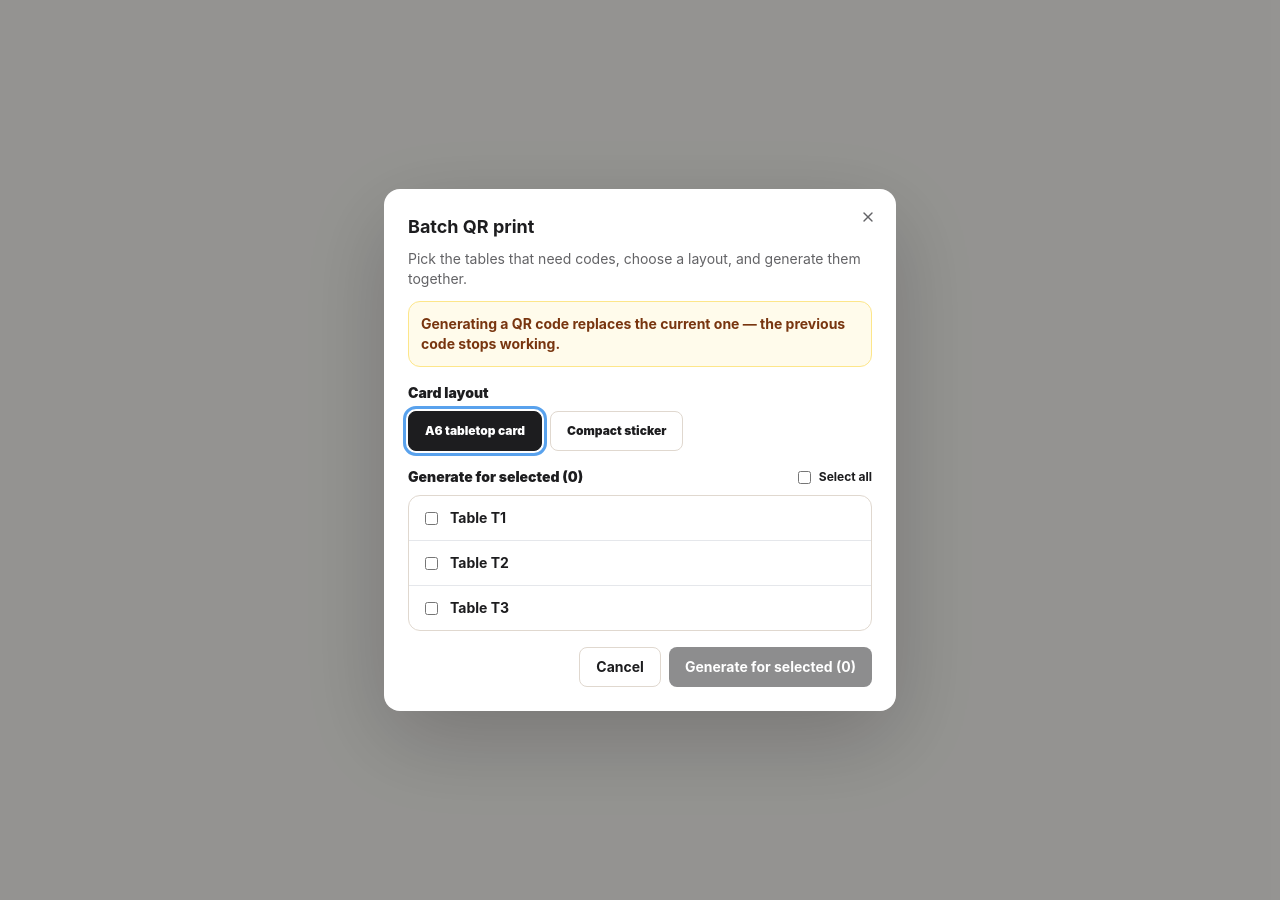
it: TableQrBatchDialog › toggles every table through Select all
Click the checkbox with test id "batch-select-all": (804, 477) [798, 470, 811, 484]
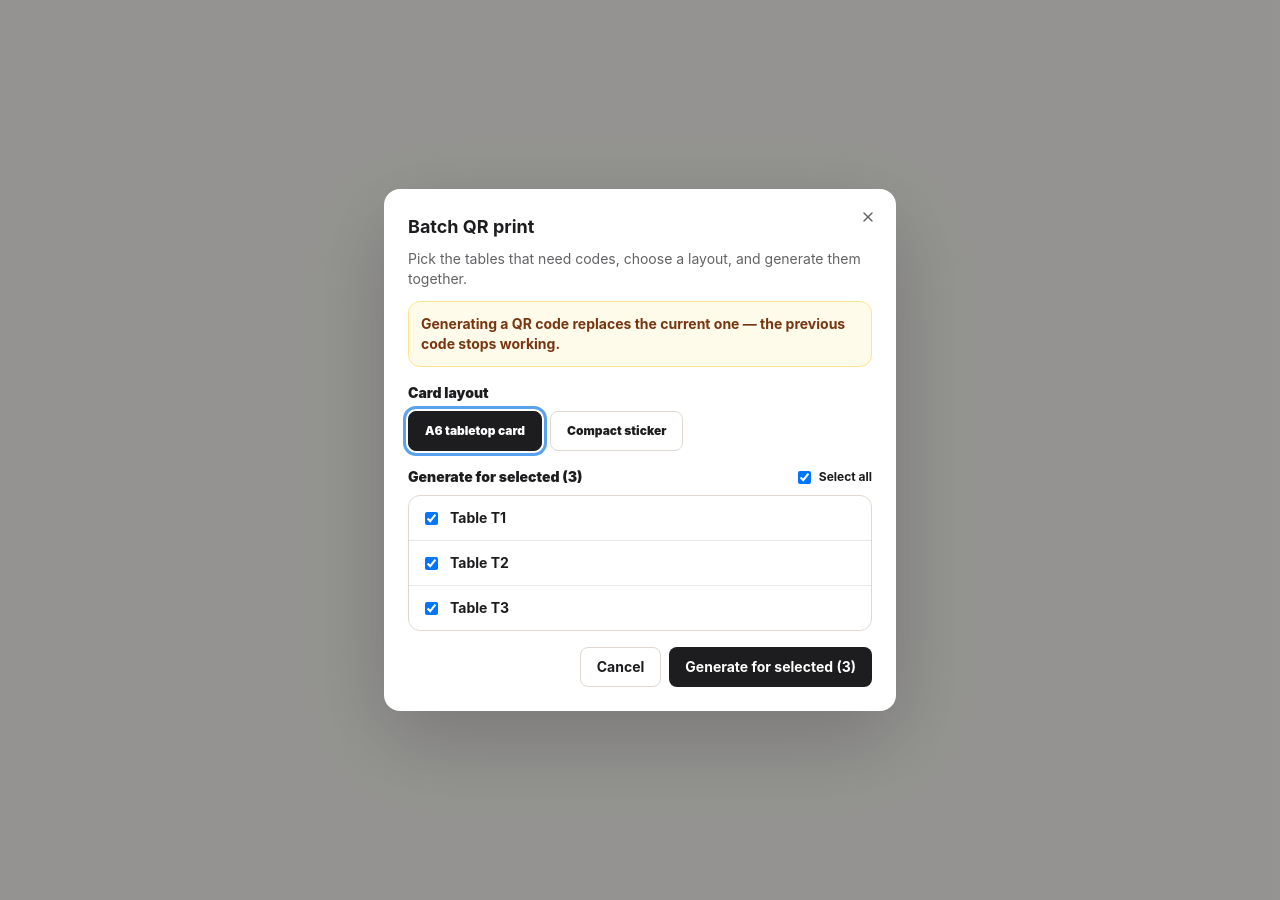
Expected: the checkbox with test id "batch-table-T1" is checked, [425, 512, 438, 524]
Expected: the checkbox with test id "batch-table-T2" is checked, [425, 556, 438, 570]
Expected: the checkbox with test id "batch-table-T3" is checked, [425, 602, 438, 614]
Click the checkbox with test id "batch-select-all": (804, 477) [798, 470, 811, 484]
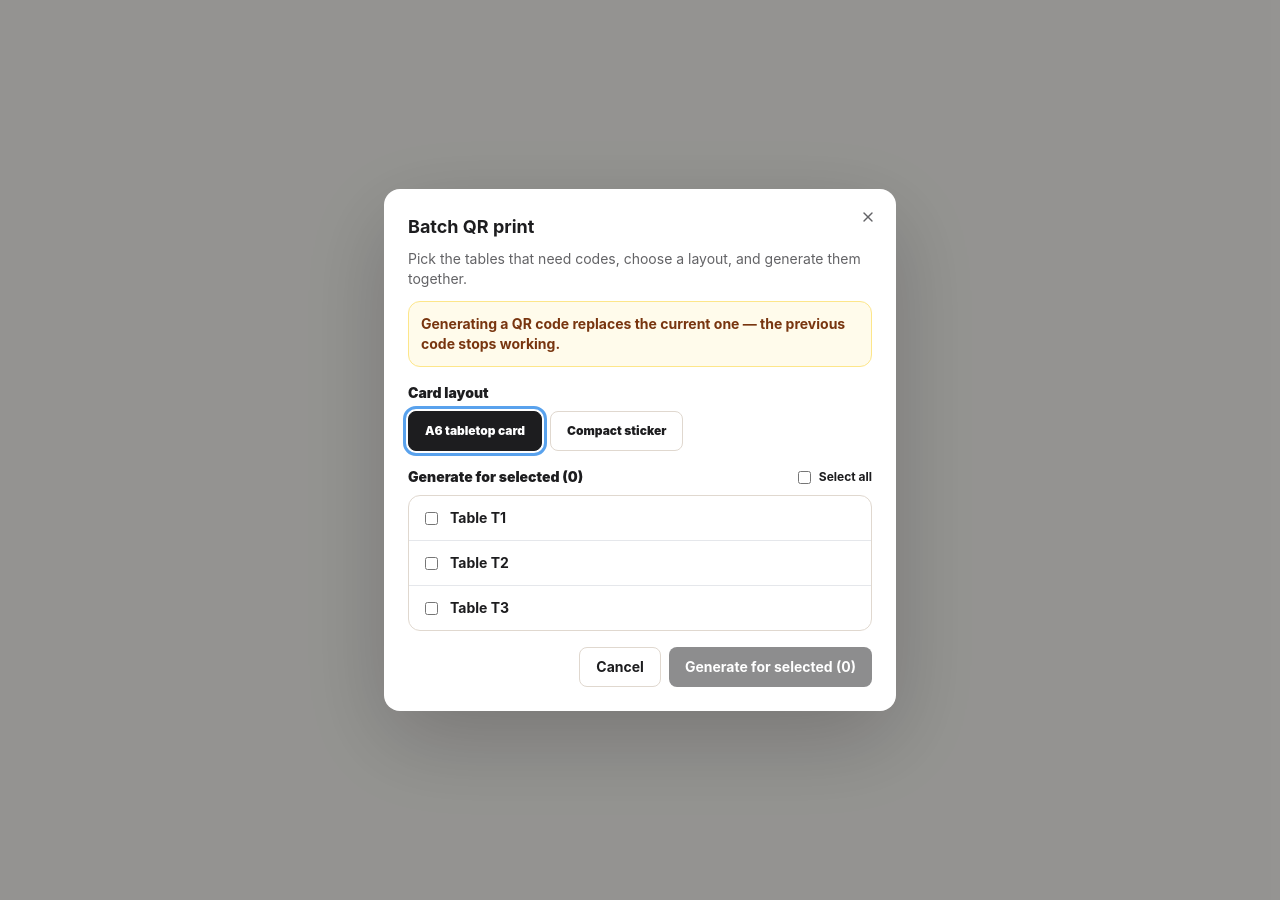
Expected: the checkbox with test id "batch-table-T1" is not checked, [425, 512, 438, 524]
Expected: the checkbox with test id "batch-table-T2" is not checked, [425, 556, 438, 570]
Expected: the checkbox with test id "batch-table-T3" is not checked, [425, 602, 438, 614]
